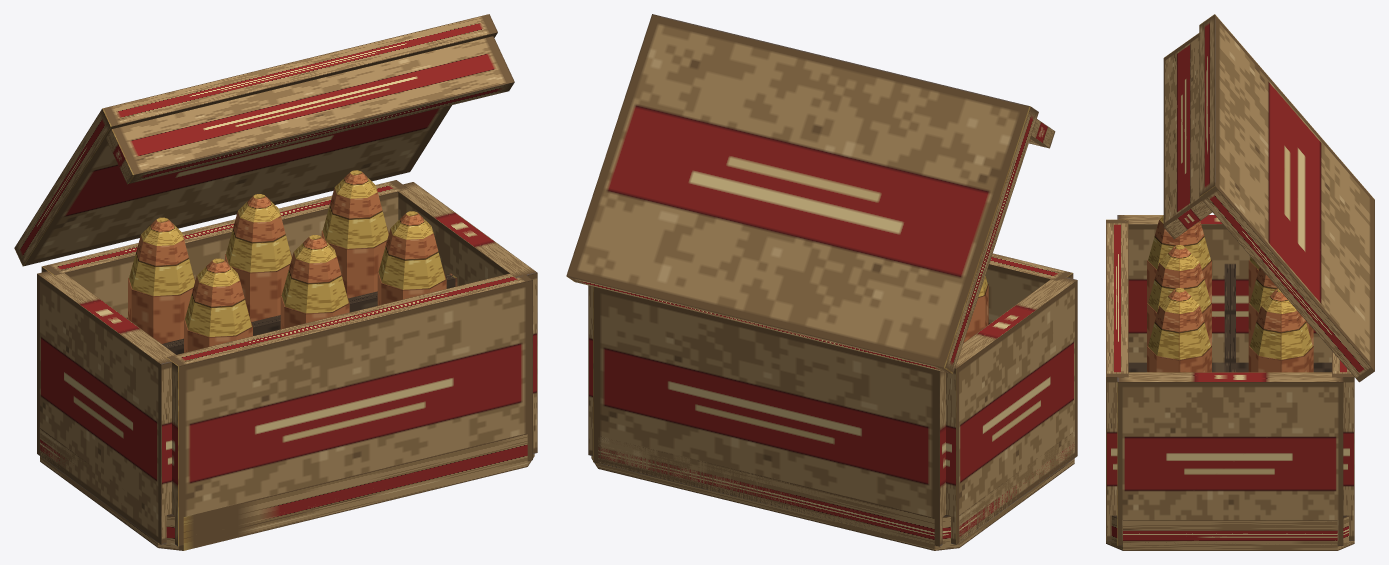
The model's file is Item_Ammo.fbx.
3 views of the same model, side by side, from view 1: azimuth 30°, elevation 25°; view 2: azimuth 150°, elevation 25°; view 3: azimuth 270°, elevation 25° (orthographic). The views are drawn at different scales.
Visible parts, largest first — view 1: Item_Ammo; view 2: Item_Ammo; view 3: Item_Ammo.
Part boxes in pixels (left/top/right/bottom): Item_Ammo: left=14, top=14, right=537, bottom=550; Item_Ammo: left=566, top=14, right=1077, bottom=550; Item_Ammo: left=1106, top=14, right=1374, bottom=550.
Size of the model in its own units: 14.4 by 14.35 by 9.51.
